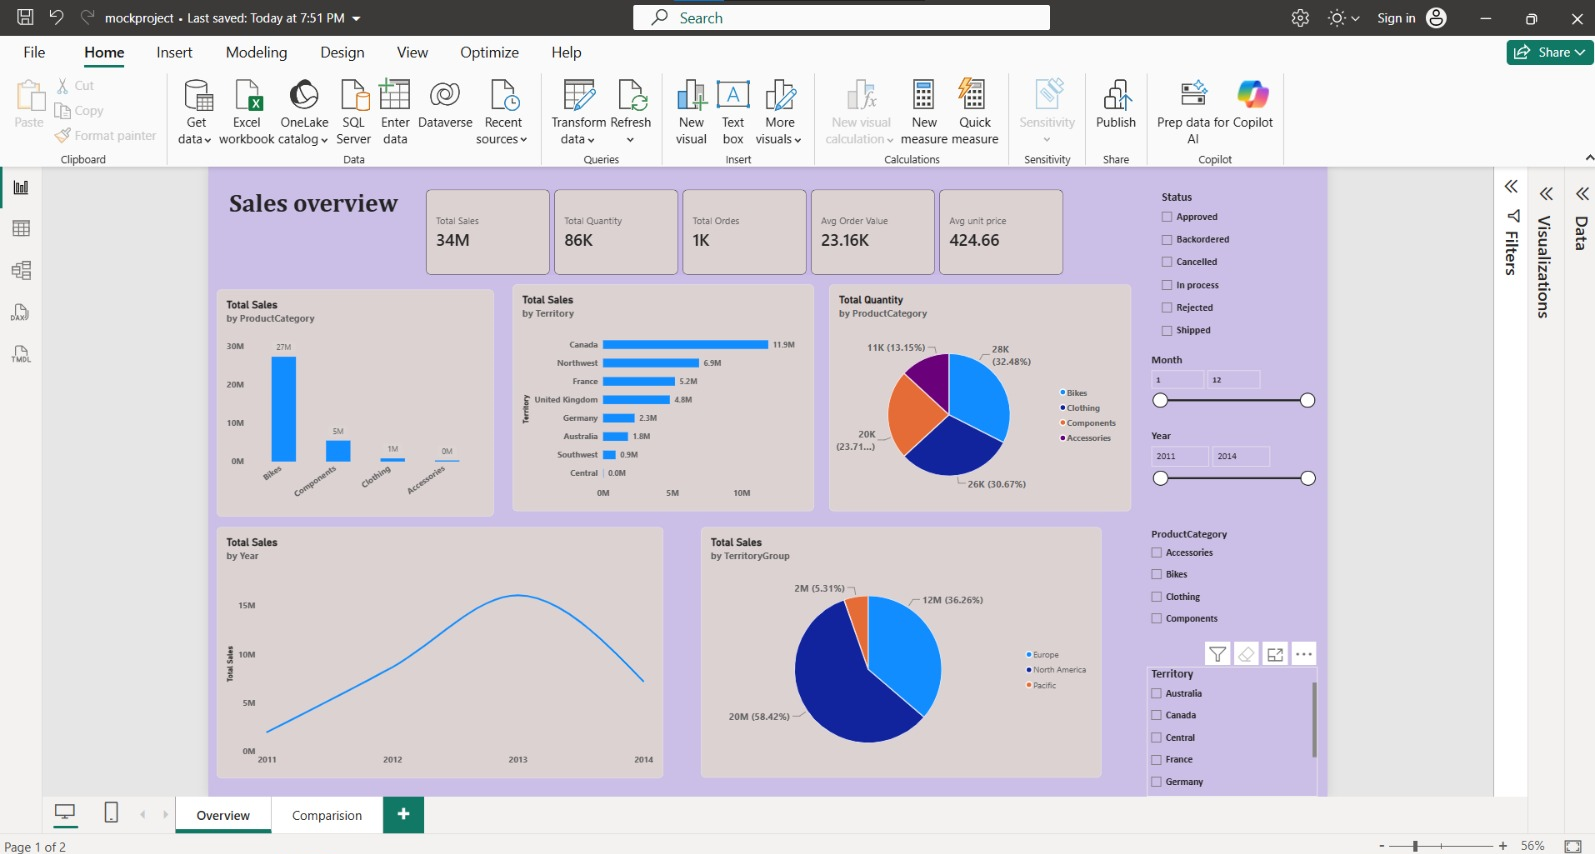

What the dashboard file says about the page in this screenshot:
{"tool":"powerbi","page":{"name":"Overview","canvas":[1920,1080],"ordinal":0},"visuals":[{"type":"textbox","box":[35,0,292.3,152.3],"z":0},{"type":"cardVisual","fields":{"Data":["Fact sales.Total Sales","Fact sales.Total Quantity","Fact sales.Total Ordes","Fact sales.Avg Order Value","Fact sales.Avg unit price"]},"box":[372.6,39.1,1095,146.1],"z":1000},{"type":"slicer","fields":{"Values":["Dim Order.Status"]},"box":[1626.1,39.1,275.8,279.9],"z":2000},{"type":"slicer","fields":{"Values":["Dim Calender.Month"]},"box":[1609.6,319,292,152],"z":3000},{"type":"slicer","fields":{"Values":["Dim Calender.Year"]},"box":[1609.6,450.8,292.3,148.2],"z":4000},{"type":"slicer","fields":{"Values":["Dim Product.ProductCategory"]},"box":[1609.6,617.5,263.5,185.2],"z":5000},{"type":"slicer","fields":{"Values":["Dim Customer.Territory"]},"box":[1609.6,856.3,292.3,224.4],"z":6000},{"type":"columnChart","fields":{"Category":["Dim Product.ProductCategory"],"Y":["Fact sales.Total Sales"]},"box":[14.4,209.9,475.5,389],"z":7000},{"type":"barChart","fields":{"Category":["Dim Customer.Territory"],"Y":["Fact sales.Total Sales"]},"box":[521.7,201,516.6,389],"z":8000},{"type":"lineChart","fields":{"Category":["Dim Calender.Year"],"Y":["Fact sales.Total Sales"]},"box":[14.4,617.5,765.7,430.2],"z":9000},{"type":"pieChart","fields":{"Series":["Dim Customer.TerritoryGroup"],"Y":["Fact sales.Total Sales"]},"box":[844.5,617.9,686.3,429.8],"z":10000},{"type":"pieChart","fields":{"Category":["Dim Product.ProductCategory"],"Y":["Fact sales.Total Quantity"]},"box":[1064.8,201,517.4,389.1],"z":11000}]}

Visuals, with their boxes on the page's 1920x1080 design canvas (x1, y1, x2, y2). These are canvas units, not pixel positions in the 1595x854 screenshot, which may show the page scaled, cropped or inside an application window:
textbox: pyautogui.locateOnScreen(35, 0, 327, 152)
cardVisual - Fact sales.Total Sales x Fact sales.Total Quantity: pyautogui.locateOnScreen(373, 39, 1468, 185)
slicer - Dim Order.Status: pyautogui.locateOnScreen(1626, 39, 1902, 319)
slicer - Dim Calender.Month: pyautogui.locateOnScreen(1610, 319, 1902, 471)
slicer - Dim Calender.Year: pyautogui.locateOnScreen(1610, 451, 1902, 599)
slicer - Dim Product.ProductCategory: pyautogui.locateOnScreen(1610, 618, 1873, 803)
slicer - Dim Customer.Territory: pyautogui.locateOnScreen(1610, 856, 1902, 1081)
columnChart - Dim Product.ProductCategory x Fact sales.Total Sales: pyautogui.locateOnScreen(14, 210, 490, 599)
barChart - Dim Customer.Territory x Fact sales.Total Sales: pyautogui.locateOnScreen(522, 201, 1038, 590)
lineChart - Dim Calender.Year x Fact sales.Total Sales: pyautogui.locateOnScreen(14, 618, 780, 1048)
pieChart - Dim Customer.TerritoryGroup x Fact sales.Total Sales: pyautogui.locateOnScreen(844, 618, 1531, 1048)
pieChart - Dim Product.ProductCategory x Fact sales.Total Quantity: pyautogui.locateOnScreen(1065, 201, 1582, 590)
